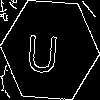U: (25, 25, 60, 74)
